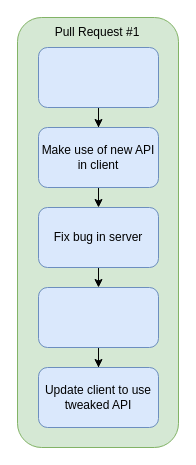
Image size: 196x465. Some labels were removed from this diagram. Each missing label, with the centre of its shape:
Add new API to server: point 98,77
Tweak server API: point 98,317
